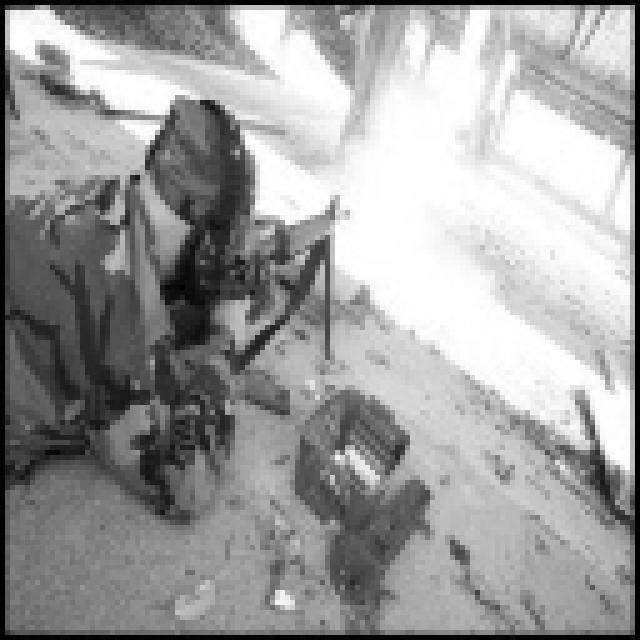Rifle: (176, 168, 368, 391)
